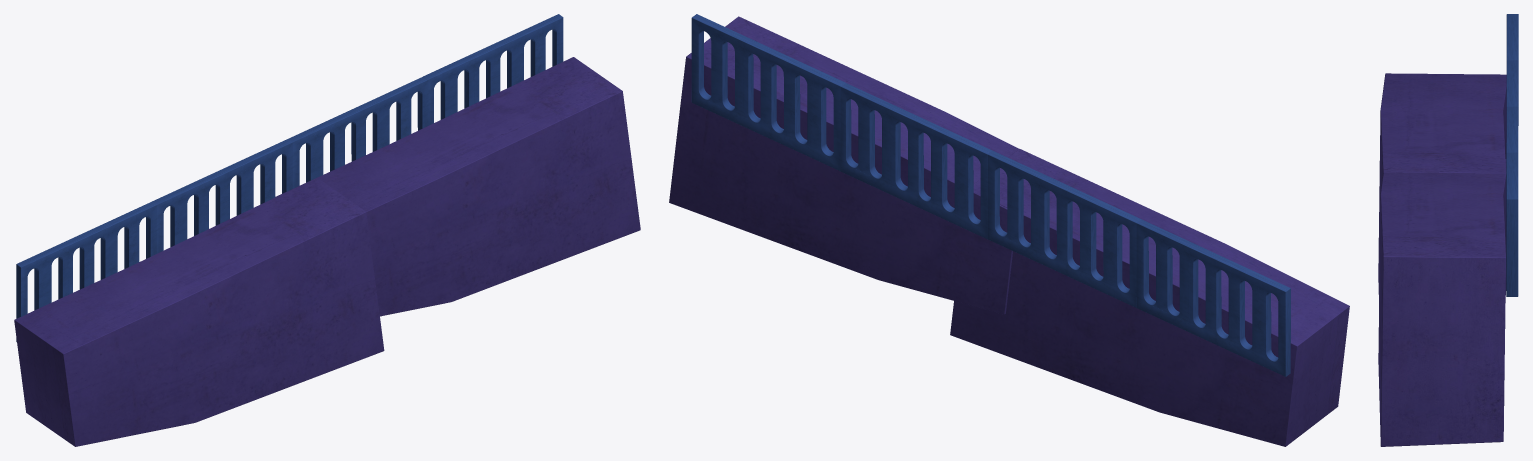
The model's file is kv2-scenes.gltf.
3 views of the same model, side by side, from view 1: azimuth 30°, elevation 25°; view 2: azimuth 150°, elevation 25°; view 3: azimuth 270°, elevation 25° (orthographic). The views are drawn at different scales.
Visible parts, largest first — view 1: Cube_1, Cube_2, fence_4, fence_3, fence_2, fence_1; view 2: Cube_1, Cube_2, fence_4, fence_1, fence_3, fence_2; view 3: Cube_2, Cube_1, fence_1, fence_3, fence_2, fence_4.
Part boxes in pixels (left/top/right/bottom): Cube_1: left=14, top=177, right=384, bottom=446; Cube_2: left=273, top=57, right=640, bottom=316; fence_4: left=16, top=201, right=156, bottom=341; fence_3: left=152, top=138, right=292, bottom=253; fence_2: left=289, top=77, right=428, bottom=188; fence_1: left=423, top=14, right=563, bottom=125; Cube_1: left=950, top=149, right=1349, bottom=446; Cube_2: left=669, top=16, right=1018, bottom=314; fence_4: left=1136, top=219, right=1290, bottom=376; fence_1: left=691, top=14, right=845, bottom=170; fence_3: left=988, top=151, right=1141, bottom=307; fence_2: left=839, top=83, right=992, bottom=239; Cube_2: left=1378, top=159, right=1506, bottom=446; Cube_1: left=1378, top=73, right=1506, bottom=301; fence_1: left=1506, top=152, right=1518, bottom=296; fence_3: left=1506, top=60, right=1518, bottom=152; fence_2: left=1506, top=106, right=1518, bottom=160; fence_4: left=1506, top=14, right=1518, bottom=145.
Bounding box in the file's own units: 937 × 414 × 157.
Materials: 2 (2 with a texture image).
